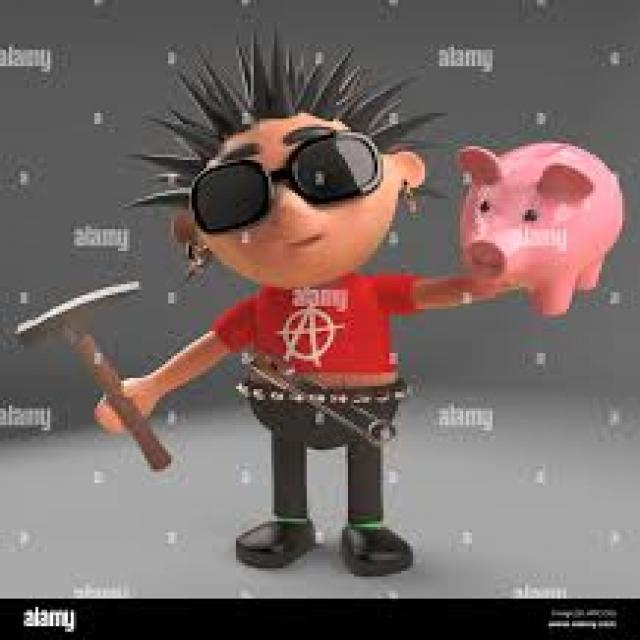hammer: (15, 269, 177, 476)
